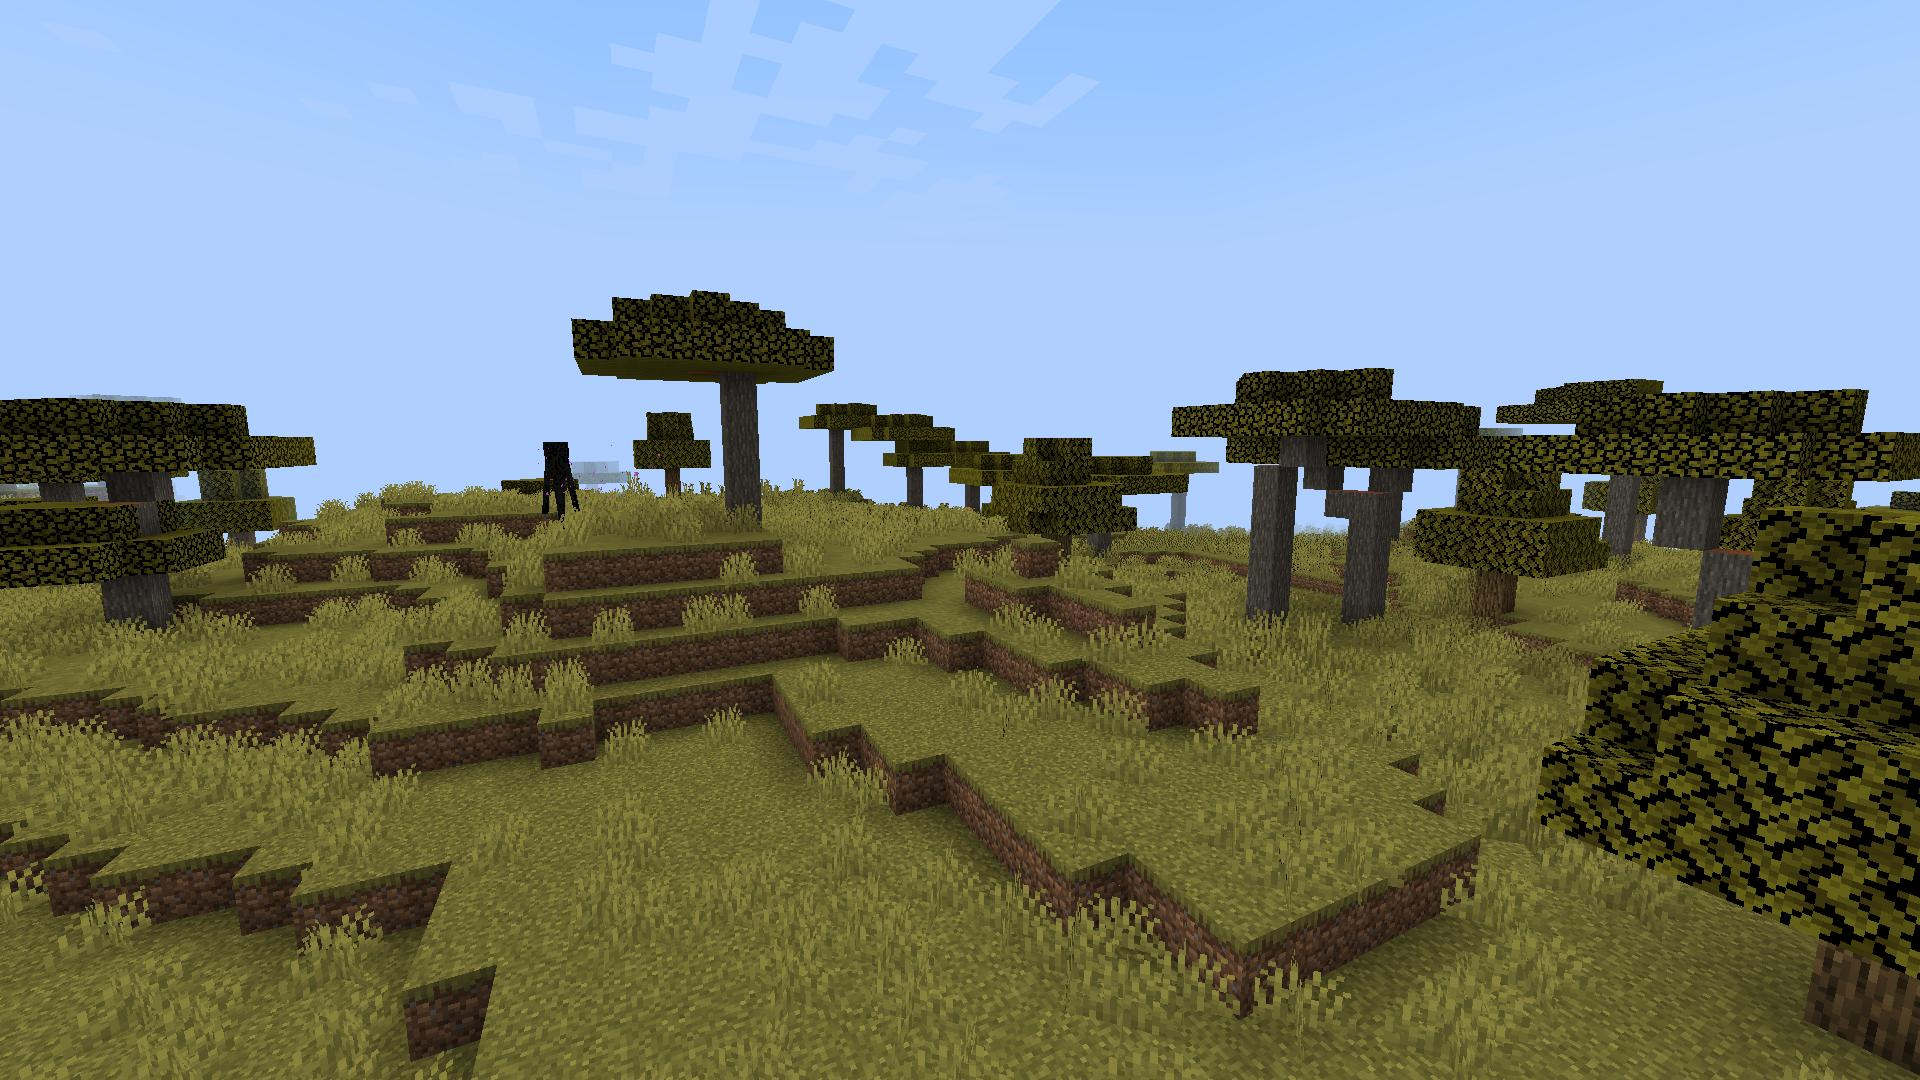enderman: (533, 430, 589, 551)
